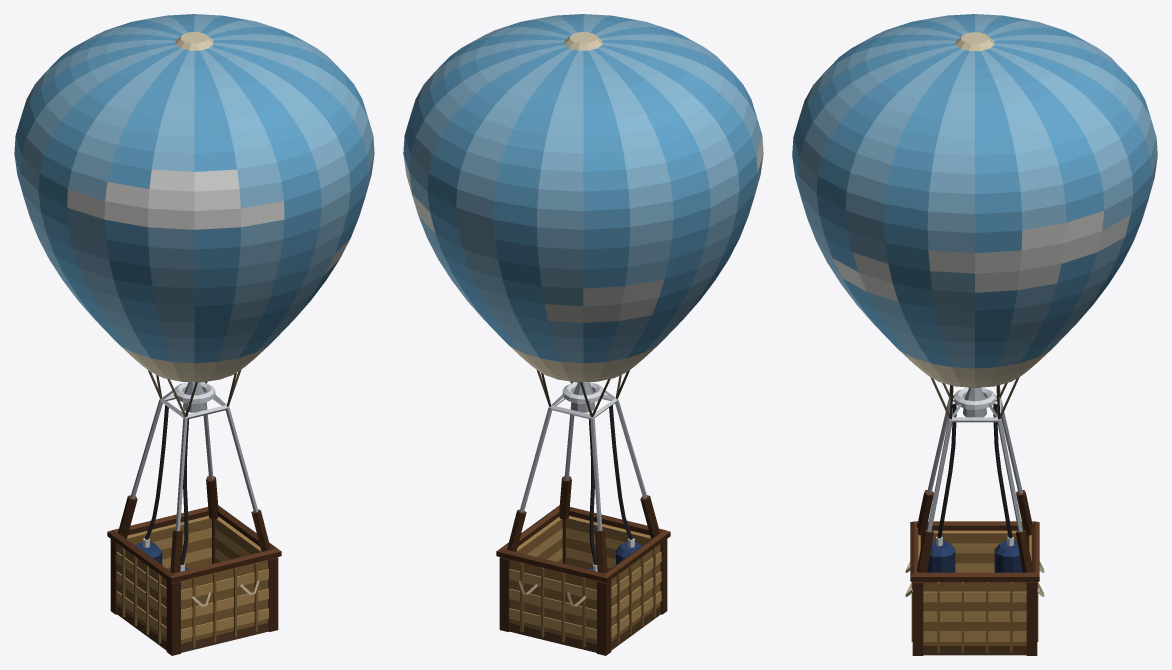
Rendered from mt_balloon_sky.glb.
3 renders of one model, left to right at view 1: azimuth 30°, elevation 25°; view 2: azimuth 150°, elevation 25°; view 3: azimuth 270°, elevation 25°, orthographic.
Visible parts, largest first — view 1: envelope_m, base; view 2: envelope_m, base; view 3: envelope_m, base.
Boxes of the visible parts, x1,y1,x2,y2 form: envelope_m: (14, 14, 374, 382); base: (107, 370, 281, 655); envelope_m: (403, 14, 763, 382); base: (496, 370, 670, 655); envelope_m: (792, 14, 1157, 387); base: (905, 377, 1044, 655).
Size of the model in its own units: 0.9029 by 1.62 by 0.9029.
